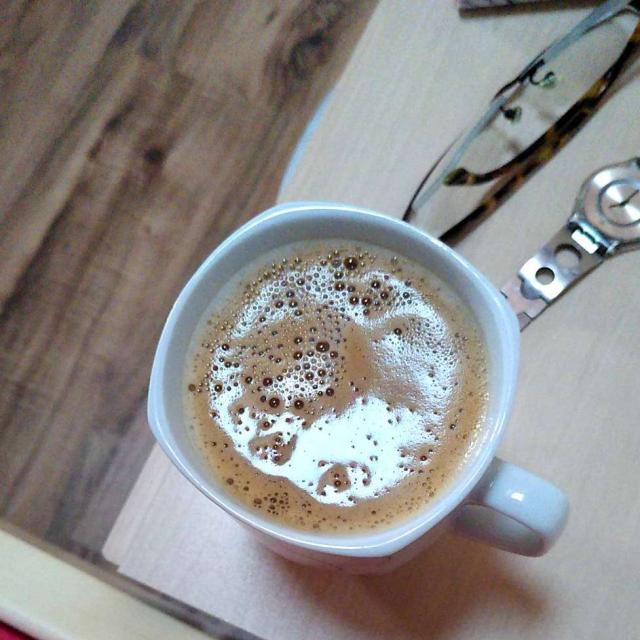coffee-with-caffeine: (187, 242, 488, 533)
